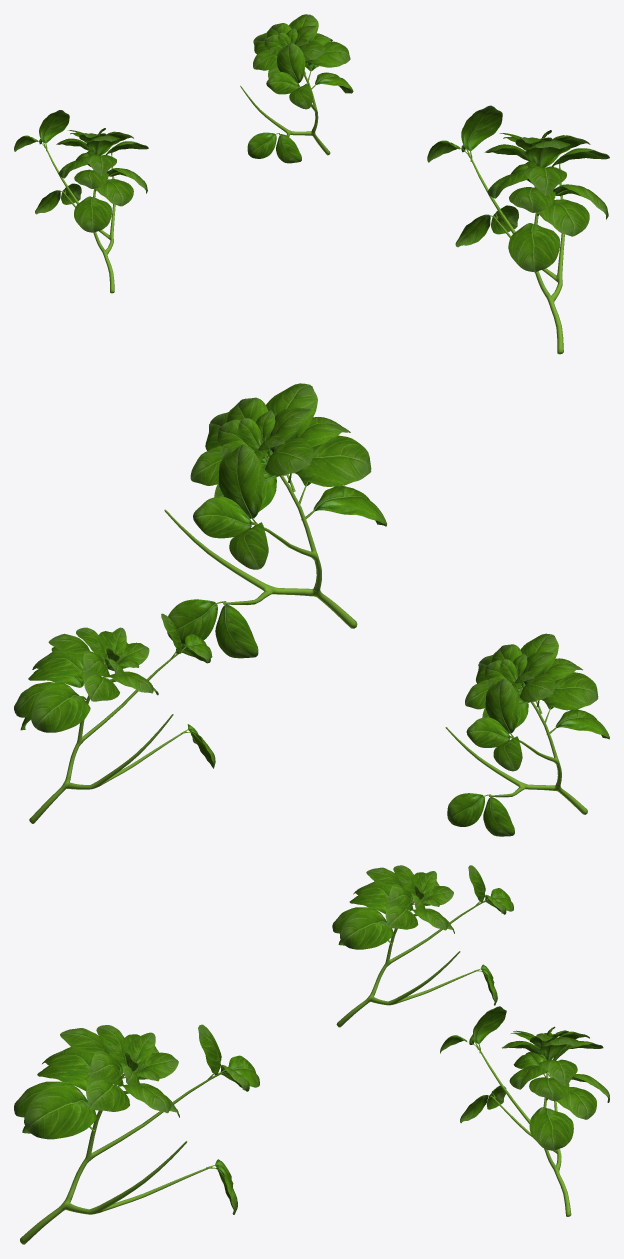
File: manjericao.glb
The picture shows the model from 3 angles, top to bottom: view 1: azimuth 30°, elevation 25°; view 2: azimuth 150°, elevation 25°; view 3: azimuth 270°, elevation 25°; orthographic projection. The views are drawn at different scales.
Visible parts, largest first — view 1: Object_4.001; view 2: Object_4.001; view 3: Object_4.001.
Part boxes in pixels (box(x1,y1,x2,y2)): Object_4.001: box(14, 14, 609, 354); Object_4.001: box(14, 383, 609, 836); Object_4.001: box(14, 865, 609, 1244).
Bounding box in the file's own units: 0.125 × 0.0547 × 0.1335.
3 materials, 3 textured.
